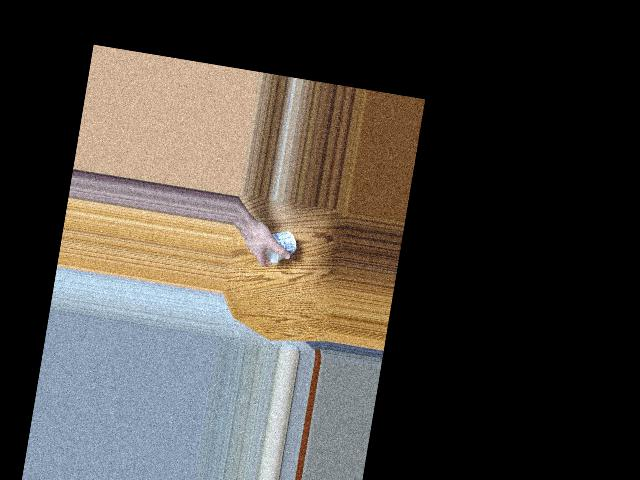cotage: (258, 223, 295, 265)
